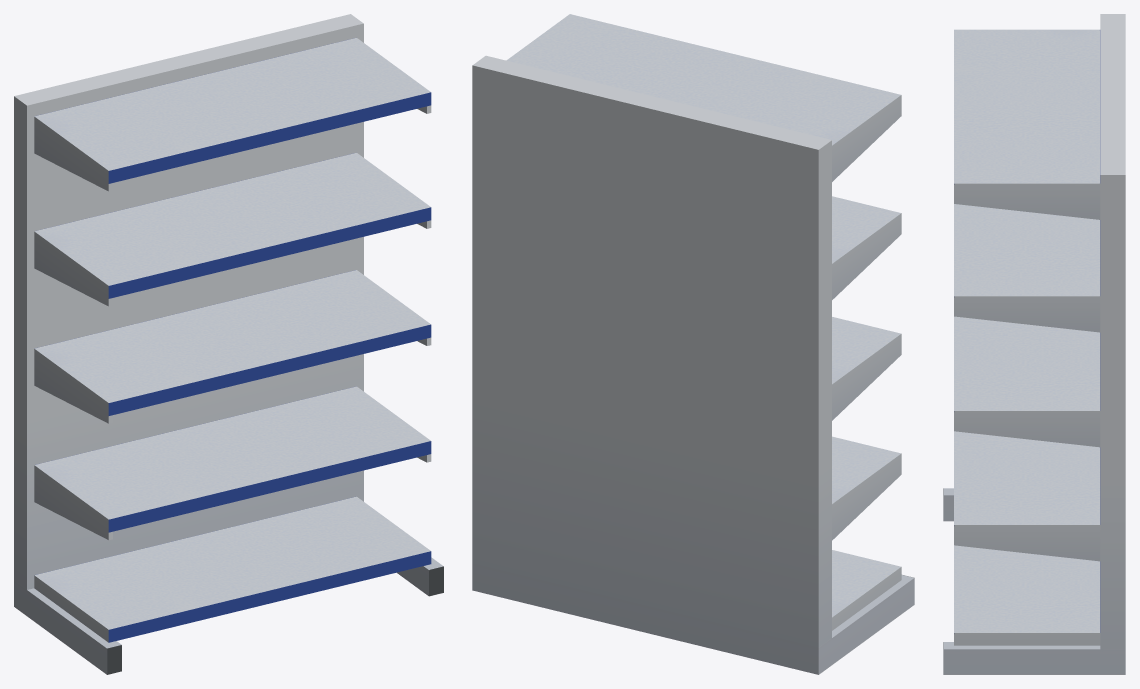
Rendered from ShelfSupermarket.fbx.
The picture shows the model from 3 angles, left to right: view 1: azimuth 30°, elevation 25°; view 2: azimuth 150°, elevation 25°; view 3: azimuth 270°, elevation 25°; orthographic projection. The views are drawn at different scales.
Parts seen in each view (by area): view 1: ShelfSupermarket; view 2: ShelfSupermarket; view 3: ShelfSupermarket.
Boxes of the visible parts, <box> form: ShelfSupermarket: <box>14,14,443,674</box>; ShelfSupermarket: <box>472,14,914,674</box>; ShelfSupermarket: <box>943,14,1125,674</box>.
Bounding box in the file's own units: 221 × 320 × 106.
